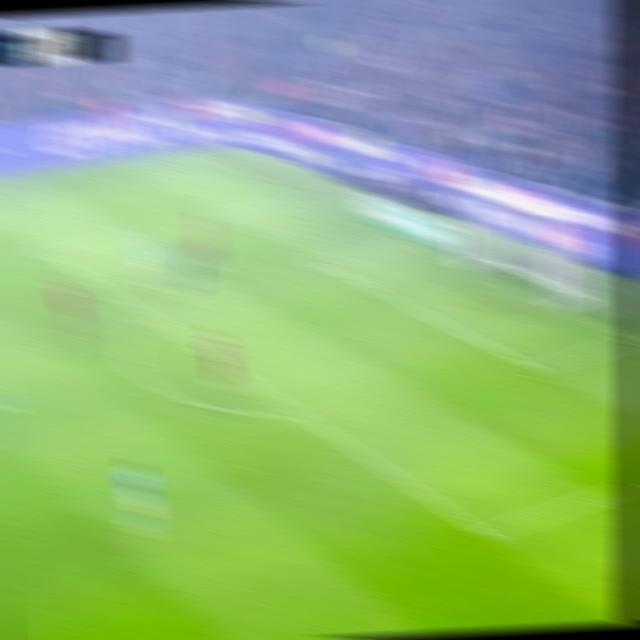bigarea_bottom_inner: (464, 516, 502, 550)
bigarea_top_inner: (31, 240, 65, 266)
bigarea_top_outter: (286, 188, 316, 208)
bottom_arc_area_intersection: (283, 399, 317, 426)
corner: (180, 144, 213, 162)
smallarea_bottom_inner: (517, 350, 555, 384)
smallarea_bottom_outter: (614, 326, 639, 353)
smallarea_top_inner: (306, 251, 337, 276)
smallarea_top_outter: (388, 232, 419, 254)
top_arc_area_intersection: (134, 305, 166, 330)
